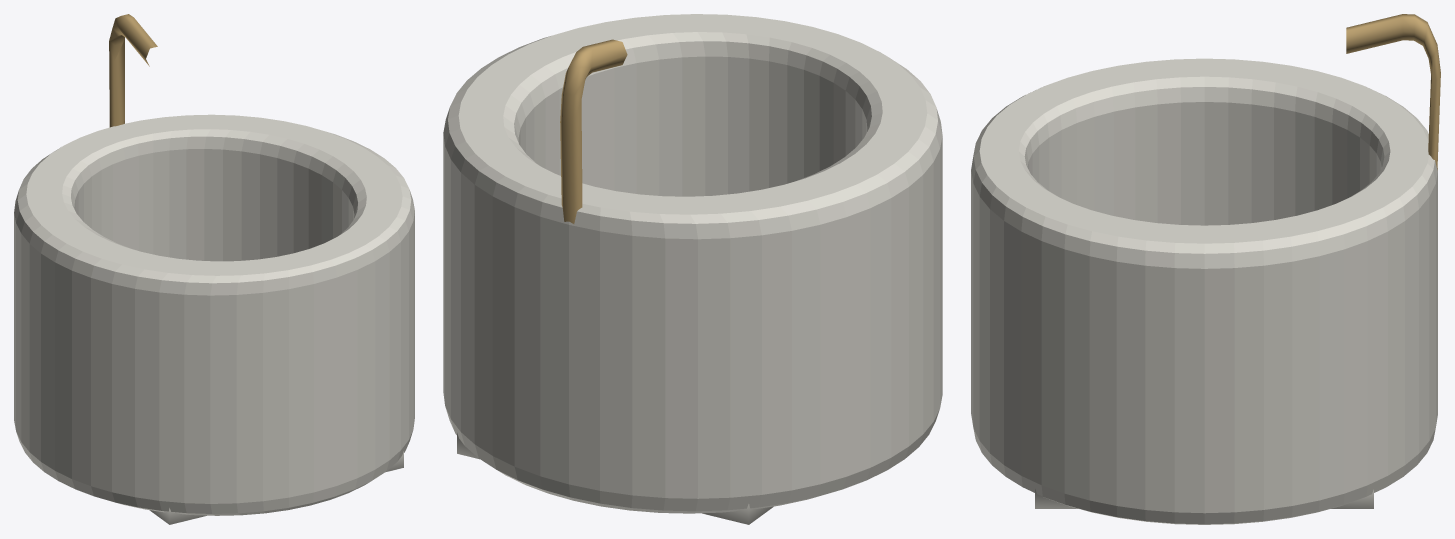
File: bath-10-2.lod.glb
3 renders of one model, left to right at view 1: azimuth 30°, elevation 25°; view 2: azimuth 150°, elevation 25°; view 3: azimuth 270°, elevation 25°, orthographic. The views are drawn at different scales.
Parts seen in each view (by area): view 1: part (×2); view 2: part (×2); view 3: part (×2).
Part boxes in pixels (x1,y1,x2,y2): part (×2): [14, 14, 414, 524]; part (×2): [443, 14, 942, 524]; part (×2): [971, 14, 1440, 524].
Bounding box in the file's own units: 1 × 1 × 1.
